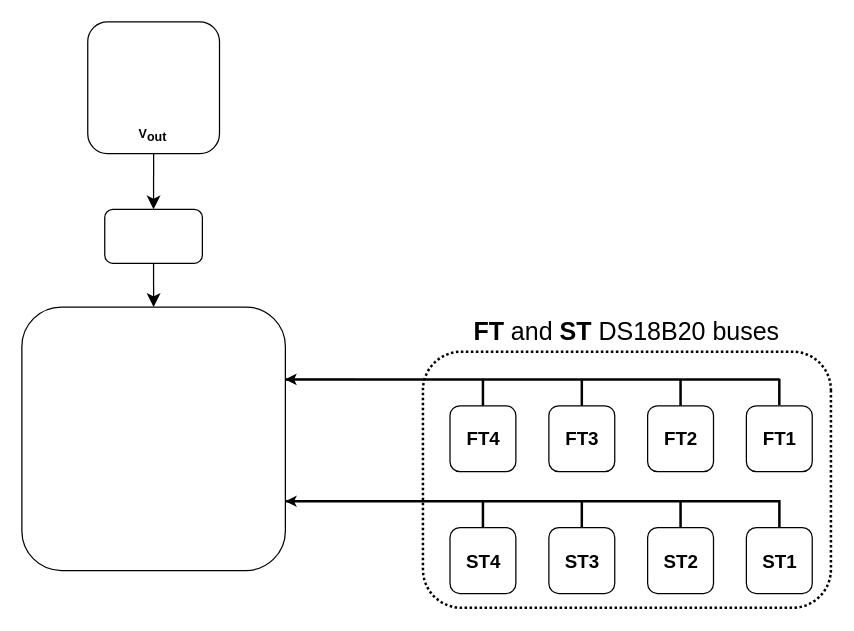
This 854x631 diagram has some shape labels left out. The shapes that lost their labels are listed below. From the top down, each one's box as (x1, y1, x2, y2) in pixels, then its label:
(86, 21, 220, 154): TEGs
(104, 208, 202, 263): ADC
(21, 306, 285, 570): Microcontroler Unit
